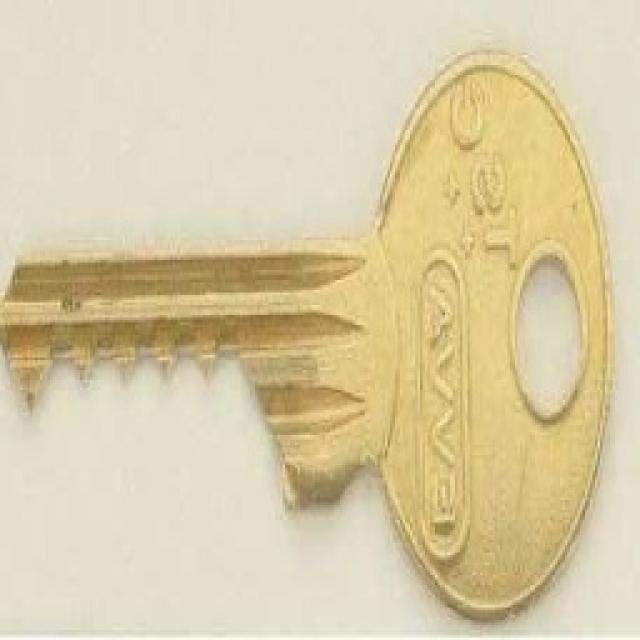anahtar: (0, 42, 618, 628)
